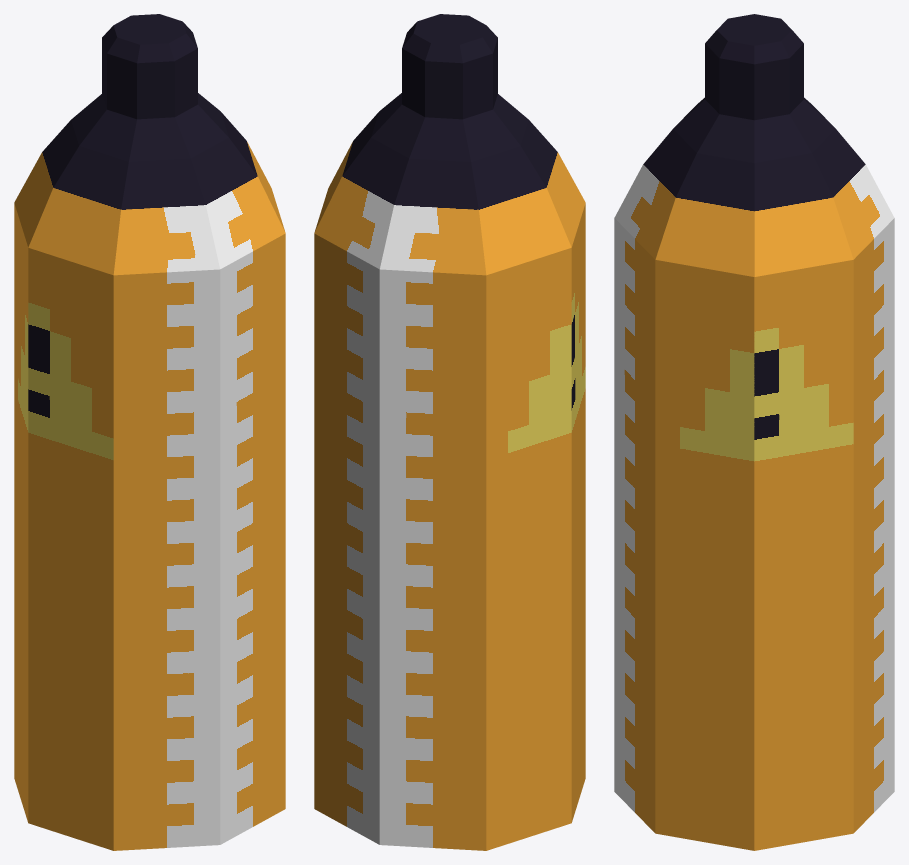
Rendered from Hazard_Bottle.fbx.
3 views of the same model, side by side, from view 1: azimuth 30°, elevation 25°; view 2: azimuth 150°, elevation 25°; view 3: azimuth 270°, elevation 25° (orthographic).
Visible parts, largest first — view 1: Hazard_Bottle; view 2: Hazard_Bottle; view 3: Hazard_Bottle.
Boxes of the visible parts, <box> form: Hazard_Bottle: <box>14,14,285,850</box>; Hazard_Bottle: <box>314,14,585,850</box>; Hazard_Bottle: <box>614,14,894,850</box>.
Size of the model in its own units: 50 by 150 by 50.
